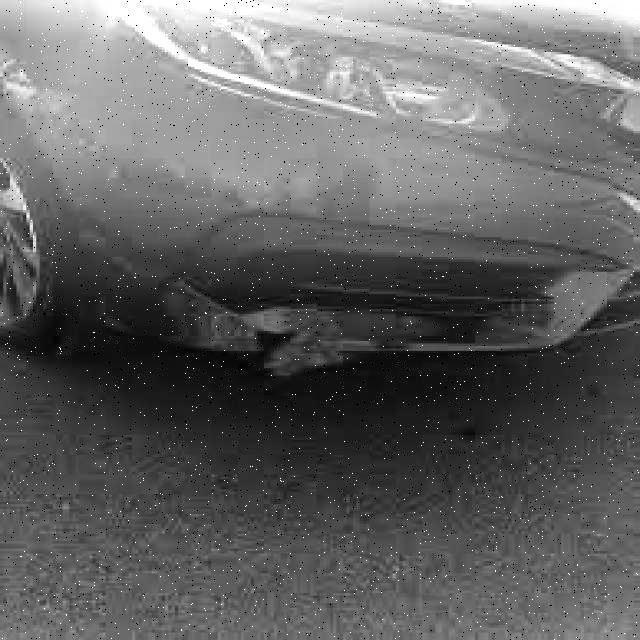front-bumper-dent: (0, 114, 636, 391)
